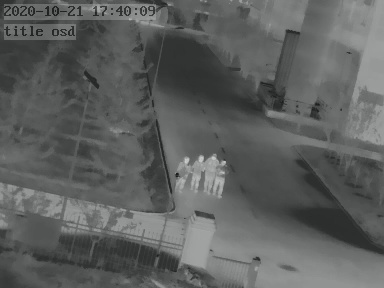person: (215, 159, 230, 199), (191, 154, 204, 191), (176, 156, 188, 193), (205, 153, 216, 192)
